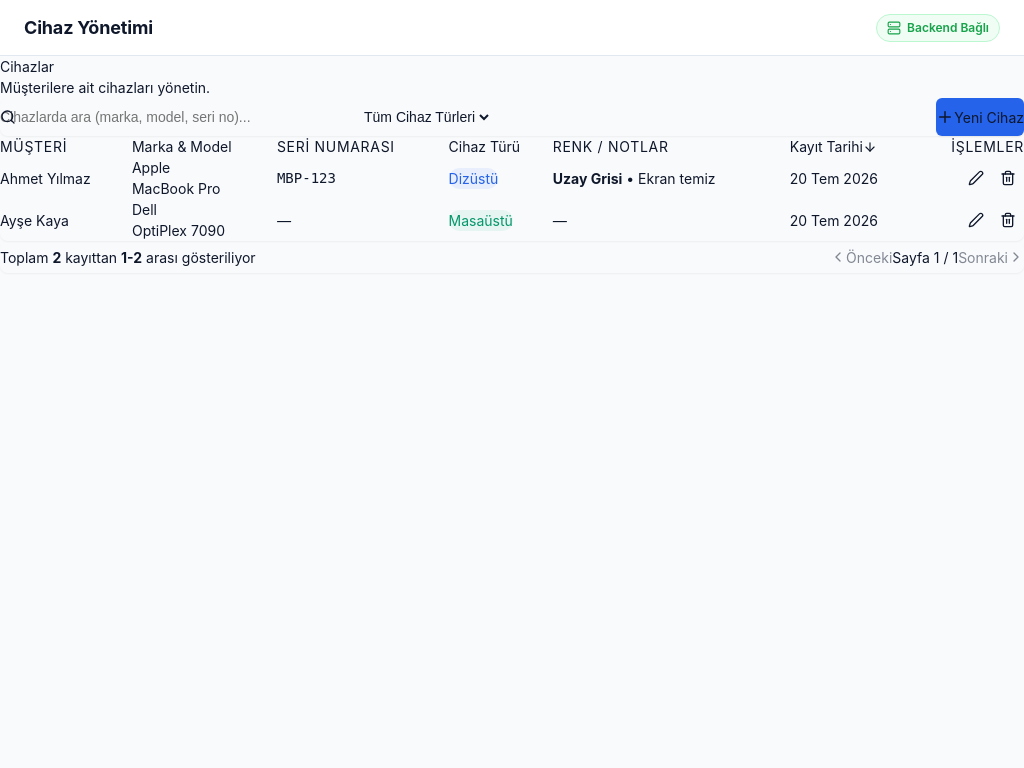
Test: DevicesPage Integration › closes dialog on ESC key press
Expected: the text "Apple" is shown, [132,159,170,176]
Click the button "Yeni Cihaz": point(980, 117) [936,98,1023,136]
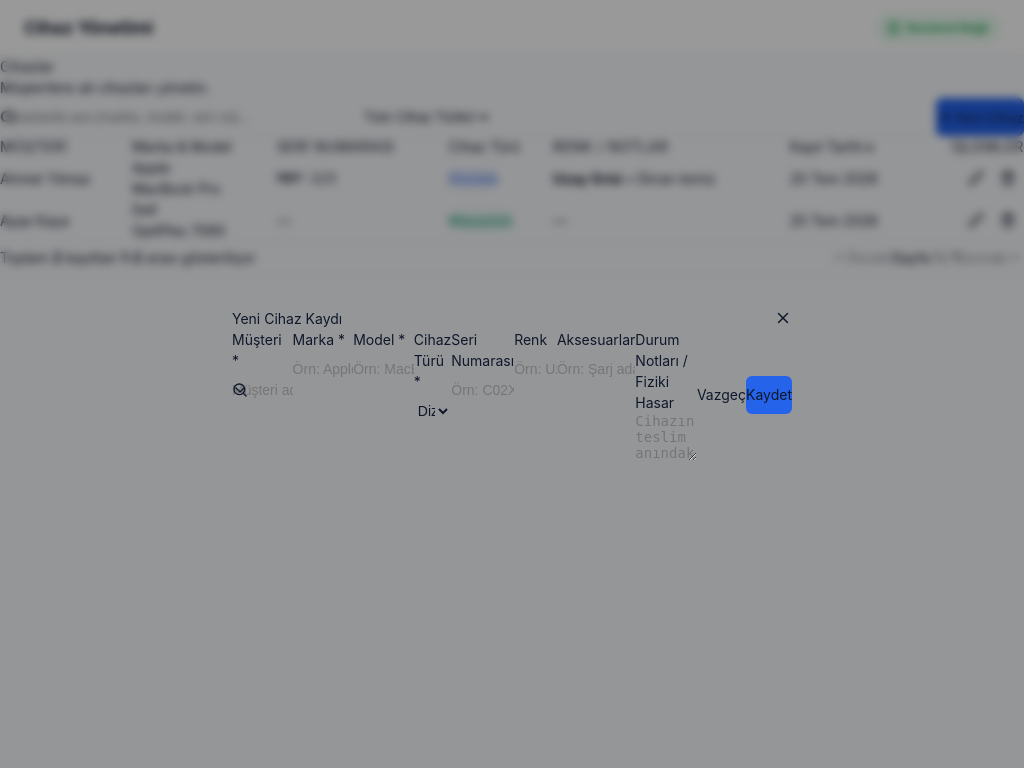
Result: the dialog "Yeni Cihaz Kaydı" is shown at [232,308,792,460]
Press Escape
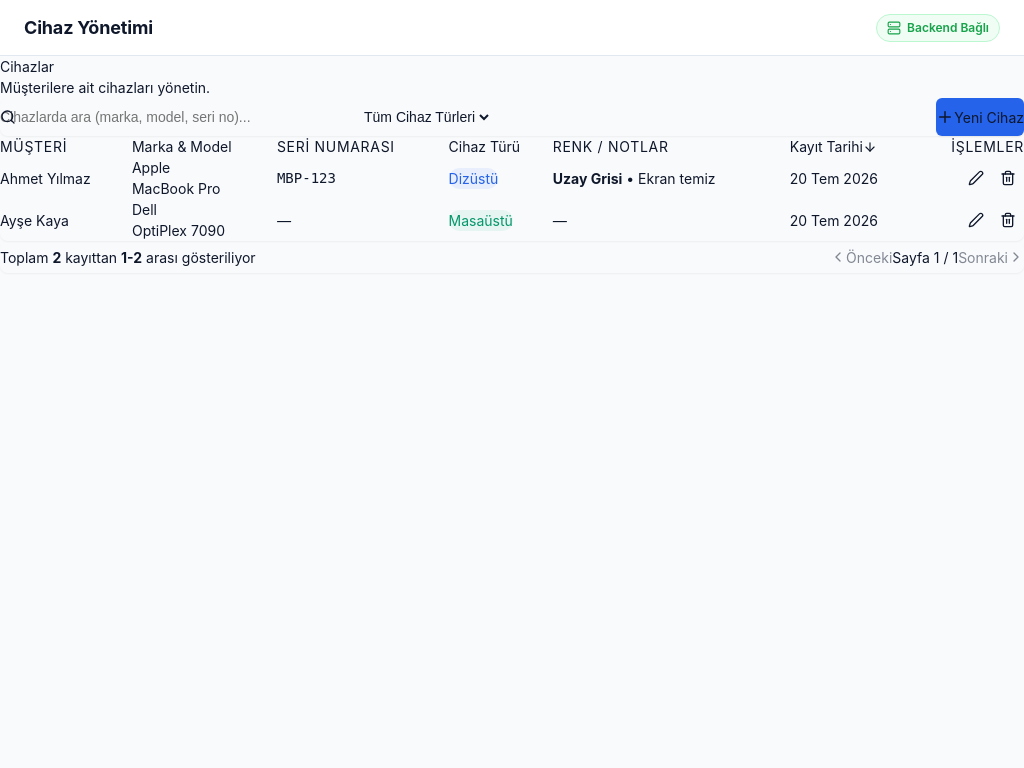
Result: the dialog is gone
